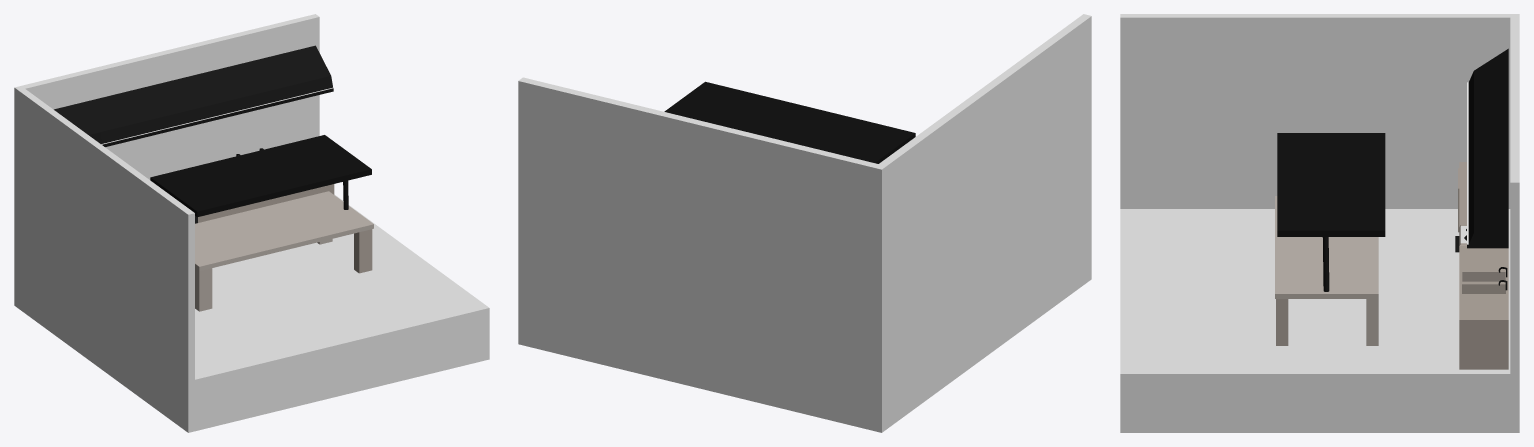
File: kitchenSEPOBJ.fbx
3 renders of one model, left to right at view 1: azimuth 30°, elevation 25°; view 2: azimuth 150°, elevation 25°; view 3: azimuth 270°, elevation 25°, orthographic. The views are drawn at different scales.
Visible parts, largest first — view 1: Cube.010, Cube.012, Cube.011, Cube, Cube.009, Cube.008, Cube.001, Cube.003, Cube.004; view 2: Cube.011, Cube.012, Cube.010, Cube.008; view 3: Cube.010, Cube.012, Cube.008, Cube.009, Cube.001, Cube.018, Cube.011, Cube.019, Cube.020, Cube.002, Cube.003, Cube.
Boxes of the visible parts, x1,y1,x2,y2 form: Cube.010: (14, 194, 488, 432); Cube.012: (14, 86, 194, 381); Cube.011: (21, 14, 319, 179); Cube: (188, 308, 489, 432); Cube.009: (54, 45, 333, 146); Cube.008: (150, 135, 371, 217); Cube.001: (195, 191, 373, 271); Cube.003: (354, 229, 372, 273); Cube.004: (195, 268, 212, 311); Cube.011: (518, 77, 877, 368); Cube.012: (873, 14, 1091, 370); Cube.010: (518, 217, 1091, 432); Cube.008: (664, 81, 915, 163); Cube.010: (1120, 209, 1519, 432); Cube.012: (1120, 14, 1519, 208); Cube.008: (1277, 133, 1385, 236); Cube.009: (1467, 48, 1508, 248); Cube.001: (1275, 196, 1378, 298); Cube.018: (1459, 295, 1508, 369); Cube.011: (1510, 17, 1519, 373); Cube.019: (1459, 267, 1508, 295); Cube.020: (1459, 246, 1508, 270); Cube.002: (1366, 299, 1378, 345); Cube.003: (1276, 299, 1288, 345); Cube: (1458, 162, 1466, 232).
Size of the model in its own units: 568 by 393 by 568.
Materials: 1 (1 with a texture image).
